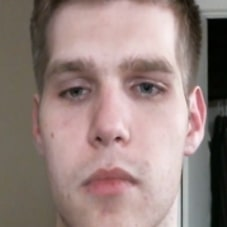drowsy: (43, 49, 179, 200)
